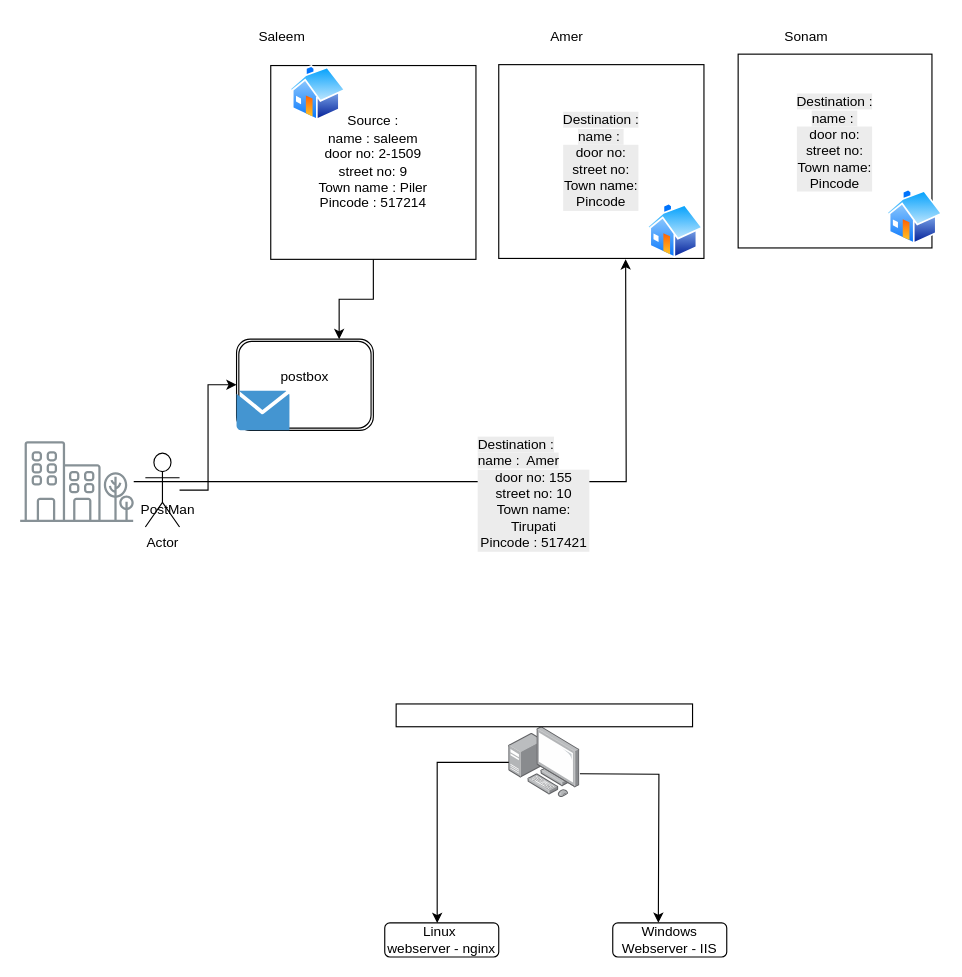
This 962x977 diagram has some shape labels left out. The shapes that lost their labels are listed below. From the top down, each one's centre as x and y in pixels, then its label:
point 262,410: Letter
point 76,481: Post Office
point 544,715: Types of Operating System
point 543,761: Server / Computer
